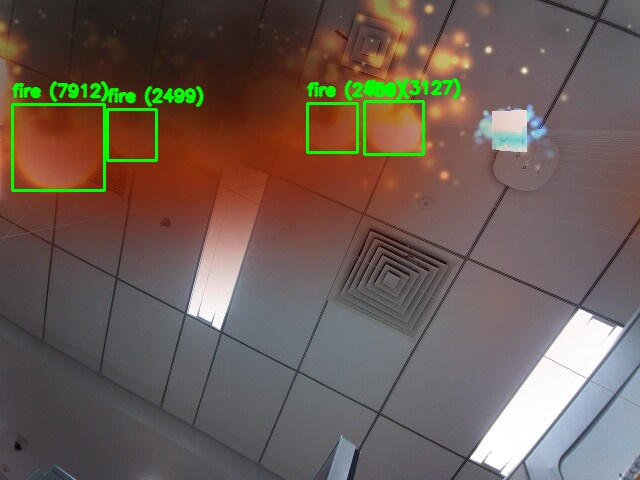fire: (12, 104, 104, 190), (364, 101, 423, 154), (107, 109, 156, 160), (307, 103, 357, 152)
